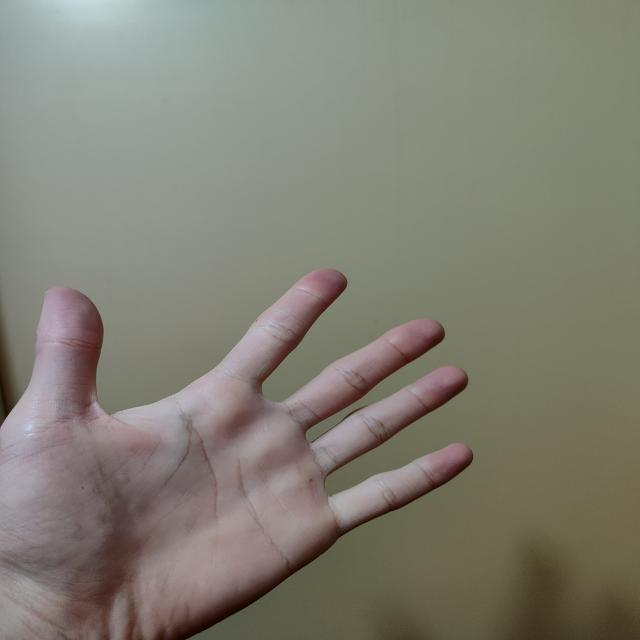no_glove: (0, 240, 501, 640)
